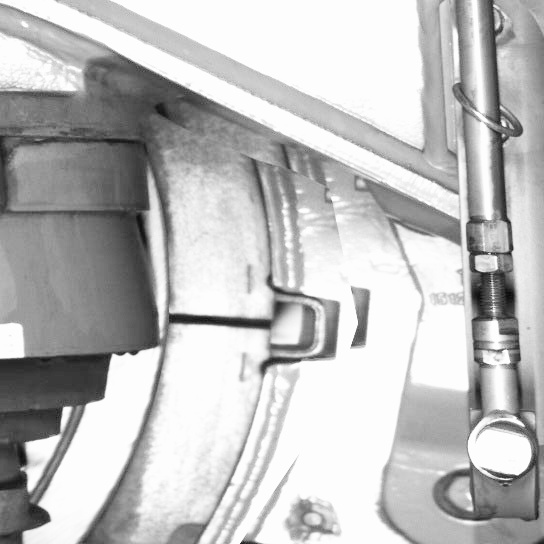ClosedKnifeSwitch: (74, 139, 327, 542)
